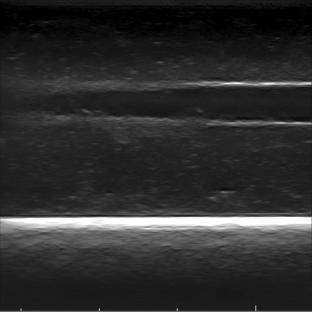vessel: (87, 79, 311, 129)
